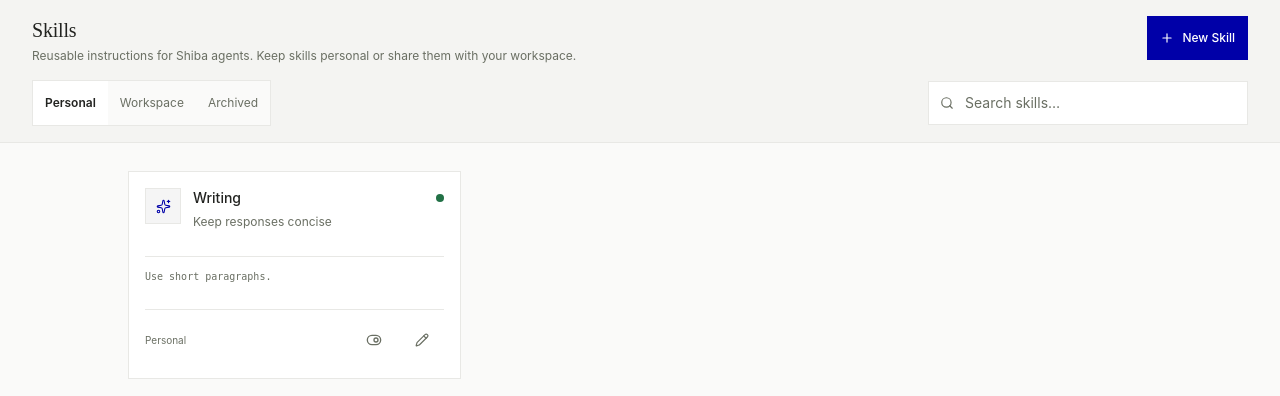
Test: ExtensionSkillsView › filters personal, workspace, and archived skills by name, description, and instructions
The image size is (1280, 396).
expect the text "Keep responses concise" is shown: met, box [193, 214, 332, 229]
Type "paragraphs" into the field labelled "Search skills" at x=1088, y=103, box [928, 81, 1248, 125]
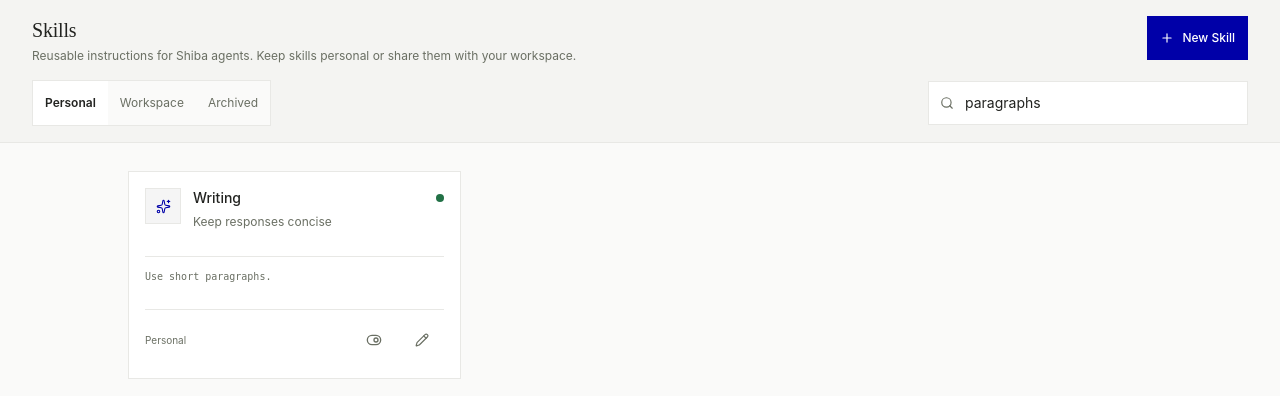
expect the text "Writing" is shown: met, box [193, 189, 241, 206]
Clear the field named "Search skills" at x=1088, y=103, box [928, 81, 1248, 125]
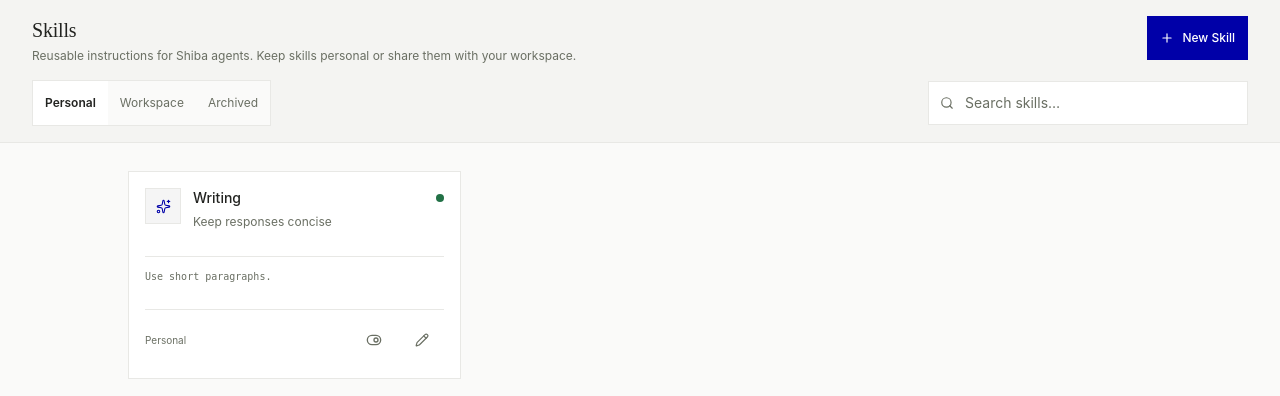
Click the tab "Workspace" at x=152, y=103, box [108, 81, 196, 125]
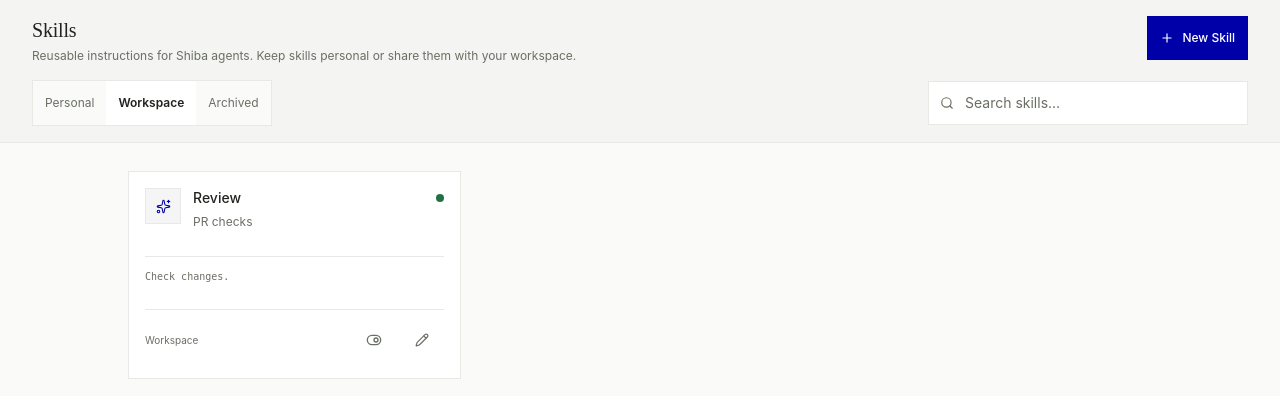
expect the text "Review" is shown: met, box [193, 189, 241, 206]
Click the tab "Archived" at x=233, y=103, box [196, 81, 271, 125]
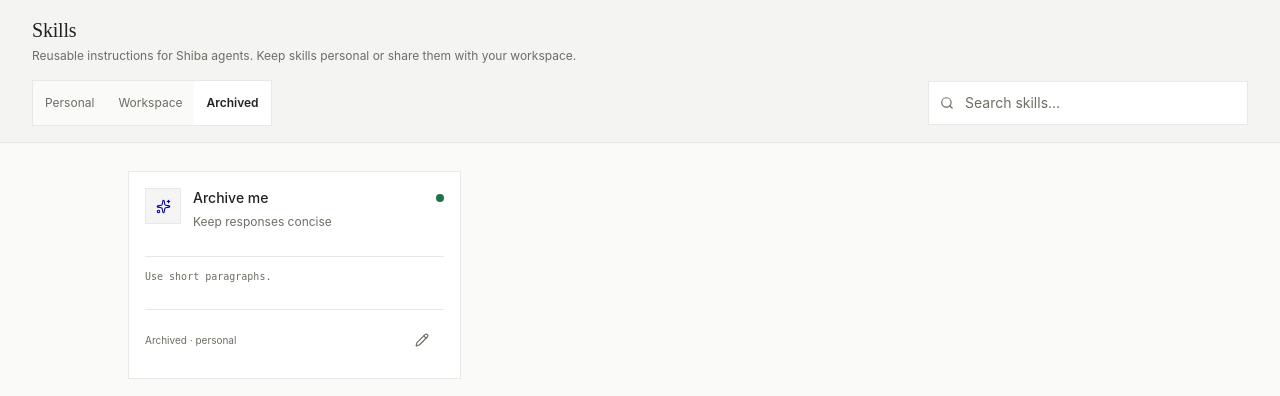
expect the text "Archive me" is shown: met, box [193, 189, 268, 206]
